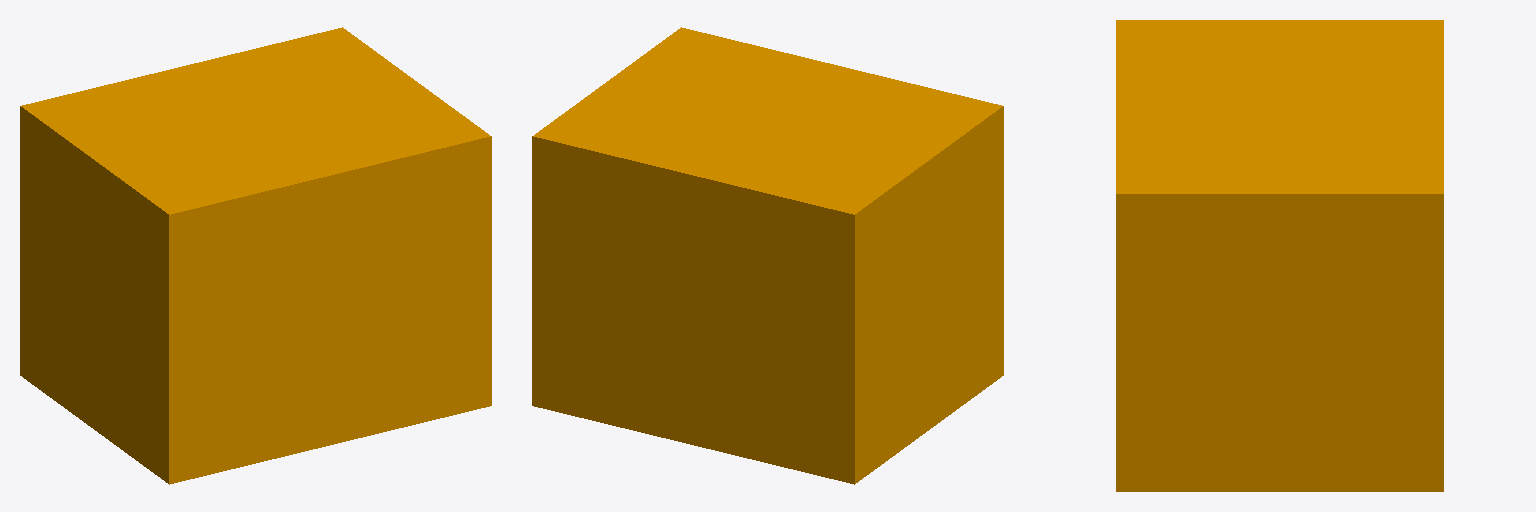
URDF robot description (pnp_block_yellow):
<robot name="pnp_block_yellow">
  <link name="pnp_block_yellow">
    <inertial>
      <origin xyz="0.025 0.02 0.02" />
      <mass value="0.01" />
      <!-- (1/12)*mass*(h^2 + d^2)  (1/12)*mass*(w^2 + d^2) (1/12)*mass*(w^2 + h^2) -->
      <!-- (1/12)*0.5*(0.045^2 + 0.045^2)  (1/12)*0.5*(0.045^2 + 0.045^2) (1/12)*0.5*(0.045^2 + 0.045^2) -->
      <!--inertia  ixx="0.00016874999" ixy="0.0"  ixz="0.0"  iyy="0.00016874999"  iyz="0.0"  izz="0.00016874999" /-->
      <inertia  ixx="0.001" ixy="0.0"  ixz="0.0"  iyy="0.001"  iyz="0.0"  izz="0.001" />

    </inertial>
    <visual>
      <origin xyz="0.025 0.02 0.02"/>
      <geometry>
        <box size="0.05 0.04 0.04" />
      </geometry>
    </visual>
    <collision>
      <origin xyz="0.025 0.02 0.02"/>
      <geometry>
        <box size="0.05 0.04 0.04" />
      </geometry>
    </collision>
  </link>
  <gazebo reference="pnp_block_yellow">
    <material>Gazebo/Yellow</material>
     <mu1>100</mu1>
     <mu2>100</mu2>
  </gazebo>
</robot>

--- Facts derived from the render (not from the file) ---
Views: 3 orthographic renders of the robot side by side, from view 1: azimuth 30°, elevation 25°; view 2: azimuth 150°, elevation 25°; view 3: azimuth 270°, elevation 25°.
Model pnp_block_yellow with 1 links and 0 joints (none), rooted at pnp_block_yellow, posed every joint at zero.
Visible links, largest first — view 1: pnp_block_yellow; view 2: pnp_block_yellow; view 3: pnp_block_yellow.
Link boxes in pixels (x1,y1,x2,y2): pnp_block_yellow: [20, 27, 491, 484]; pnp_block_yellow: [532, 27, 1003, 484]; pnp_block_yellow: [1116, 20, 1443, 491].
Size in the robot's own frame: 0.05 by 0.04 by 0.04 metres.
Geometry: primitives only (box / cylinder / sphere), no mesh files.